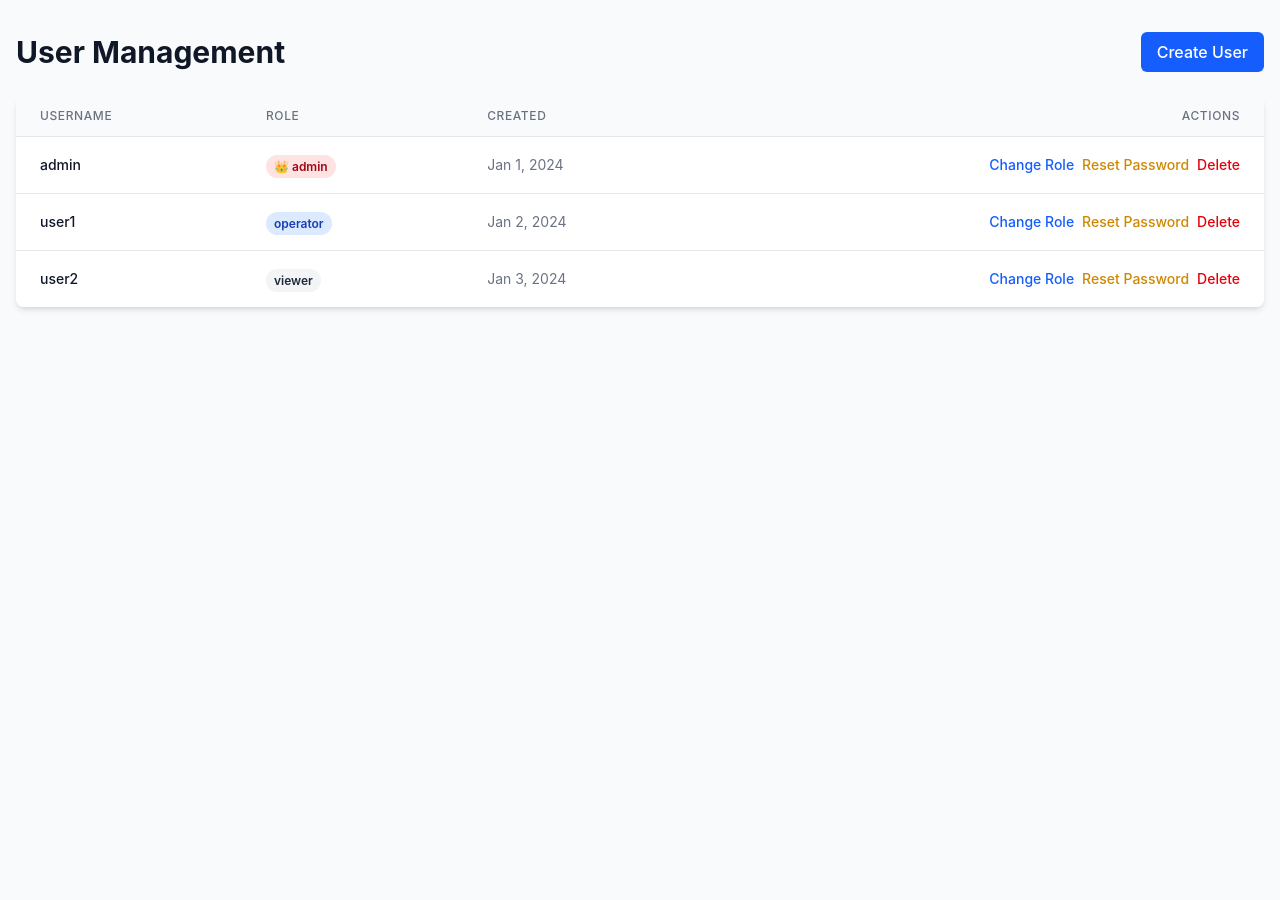
it: UsersPage › Reset Password Flow › should open password reset dialog when reset button is clicked
Check: the text "user1" is shown, box [40,213,75,230]
Click the button "Reset Password" in the row of "user1" at (1136, 222), box [1082,212,1189,232]
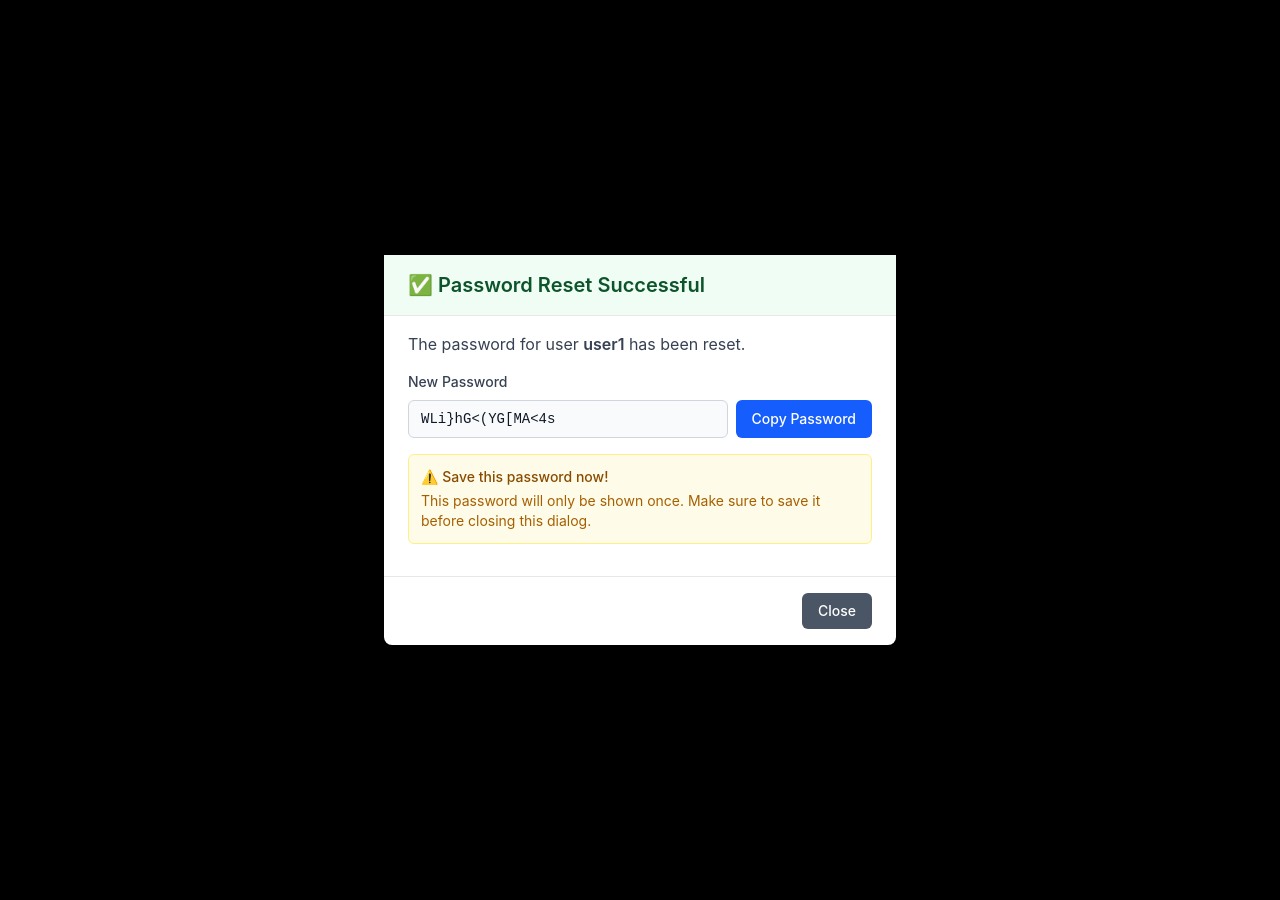
Check: the heading "✅ Password Reset Successful" is shown, box [408,273,705,297]
